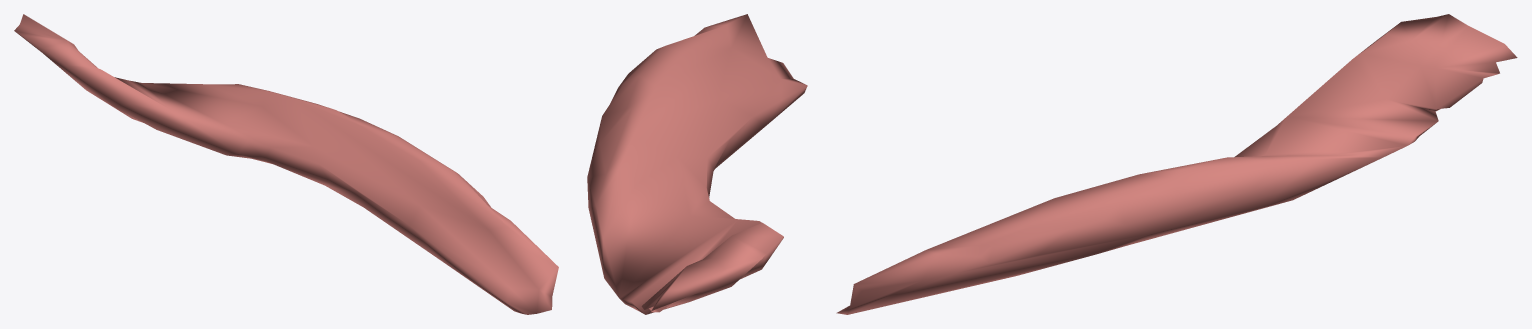
3 views of the same model, side by side, from view 1: azimuth 30°, elevation 25°; view 2: azimuth 150°, elevation 25°; view 3: azimuth 270°, elevation 25° (orthographic). The views are drawn at different scales.
Visible parts, largest first — view 1: ZA_548db57670a7b17c; view 2: ZA_548db57670a7b17c; view 3: ZA_548db57670a7b17c.
Boxes of the visible parts, x1,y1,x2,y2 form: ZA_548db57670a7b17c: [14, 14, 558, 314]; ZA_548db57670a7b17c: [587, 14, 807, 314]; ZA_548db57670a7b17c: [836, 14, 1517, 314].
Size of the model in its own units: 0.0226 by 0.0116 by 0.0433.
